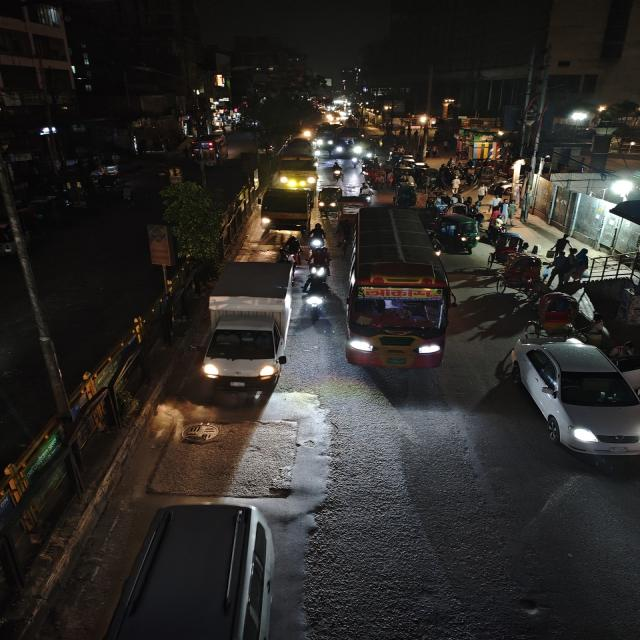bus: (344, 204, 454, 378), (333, 128, 368, 158)
car: (114, 501, 279, 639), (508, 337, 640, 468)
cng: (437, 213, 482, 252), (318, 185, 342, 212)
motorcycle: (303, 276, 327, 322), (307, 246, 332, 282), (280, 234, 303, 263), (308, 222, 328, 253), (331, 162, 345, 184)
pedestrian: (548, 252, 573, 288), (572, 247, 592, 280), (588, 312, 610, 340), (552, 234, 572, 256)
pickup_van: (257, 185, 316, 234)
rickshaw: (492, 254, 543, 298), (534, 291, 582, 334), (318, 184, 342, 216), (392, 186, 419, 208)
truck: (203, 258, 300, 391), (276, 137, 320, 191)
